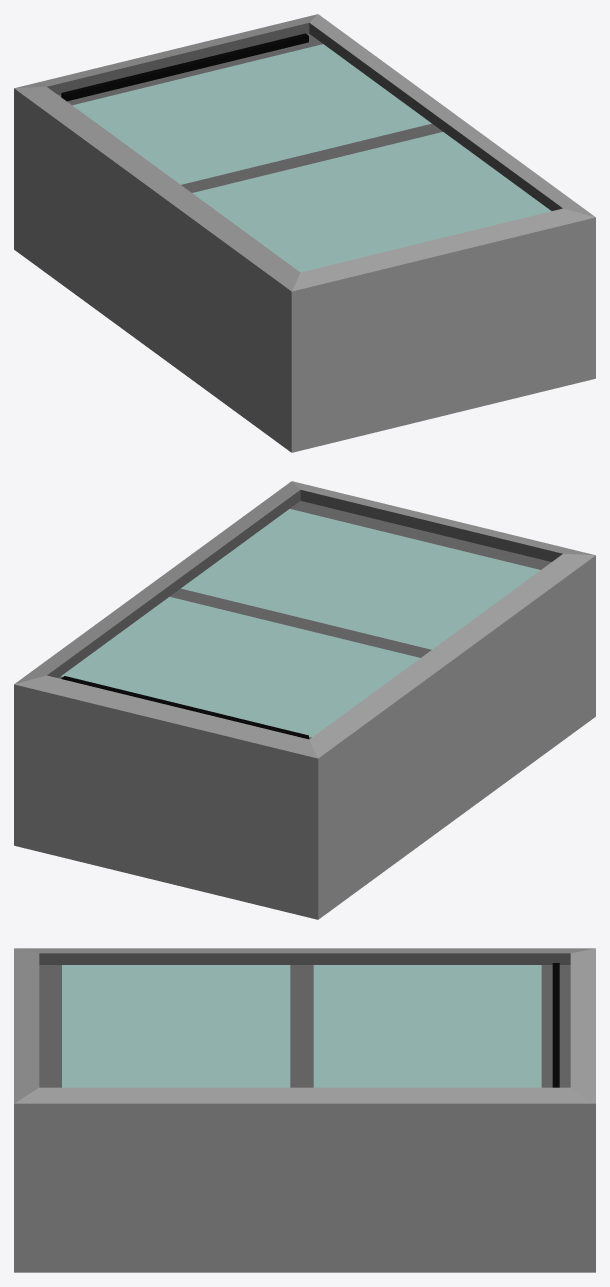
The model's file is Freezer.fbx.
3 renders of one model, top to bottom at view 1: azimuth 30°, elevation 25°; view 2: azimuth 150°, elevation 25°; view 3: azimuth 270°, elevation 25°, orthographic. The views are drawn at different scales.
Parts seen in each view (by area): view 1: Cube; view 2: Cube; view 3: Cube.
Boxes of the visible parts, x1,y1,x2,y2 form: Cube: [14, 14, 595, 452]; Cube: [14, 481, 595, 919]; Cube: [14, 948, 595, 1272].
Size of the model in its own units: 395 by 206 by 624.
